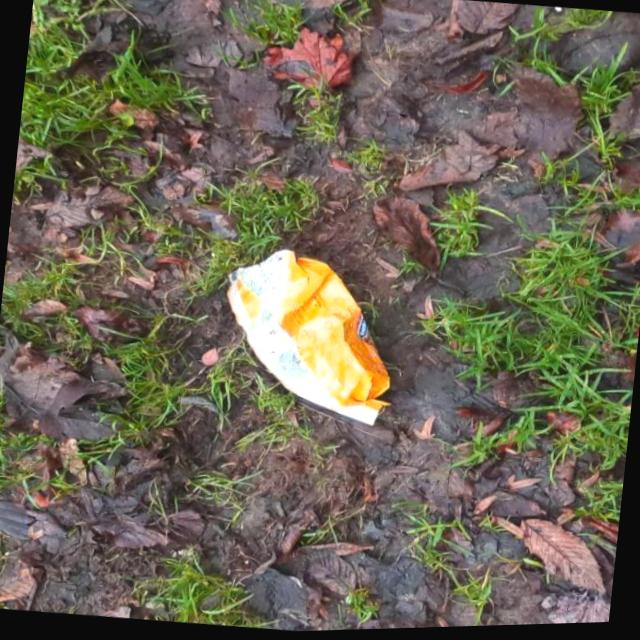Plastic: (208, 239, 407, 437)
